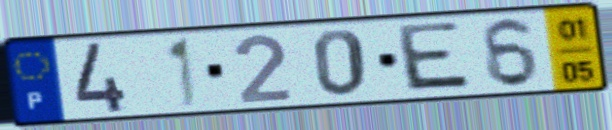0: (309, 26, 368, 100)
1: (164, 33, 199, 111)
2: (232, 32, 295, 106)
4: (72, 40, 130, 116)
6: (478, 15, 544, 91)
E: (396, 19, 477, 94)
